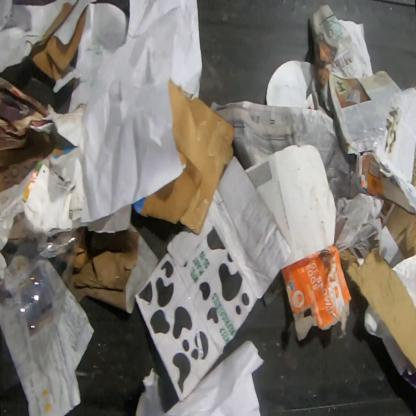cardboard: (133, 154, 294, 402), (132, 81, 234, 236), (245, 144, 338, 270), (340, 248, 415, 371), (0, 0, 98, 94), (20, 103, 87, 221), (282, 244, 353, 342), (354, 150, 416, 214), (385, 203, 415, 260)
soft_plastic: (0, 214, 87, 392), (335, 192, 384, 259), (0, 183, 26, 253)
